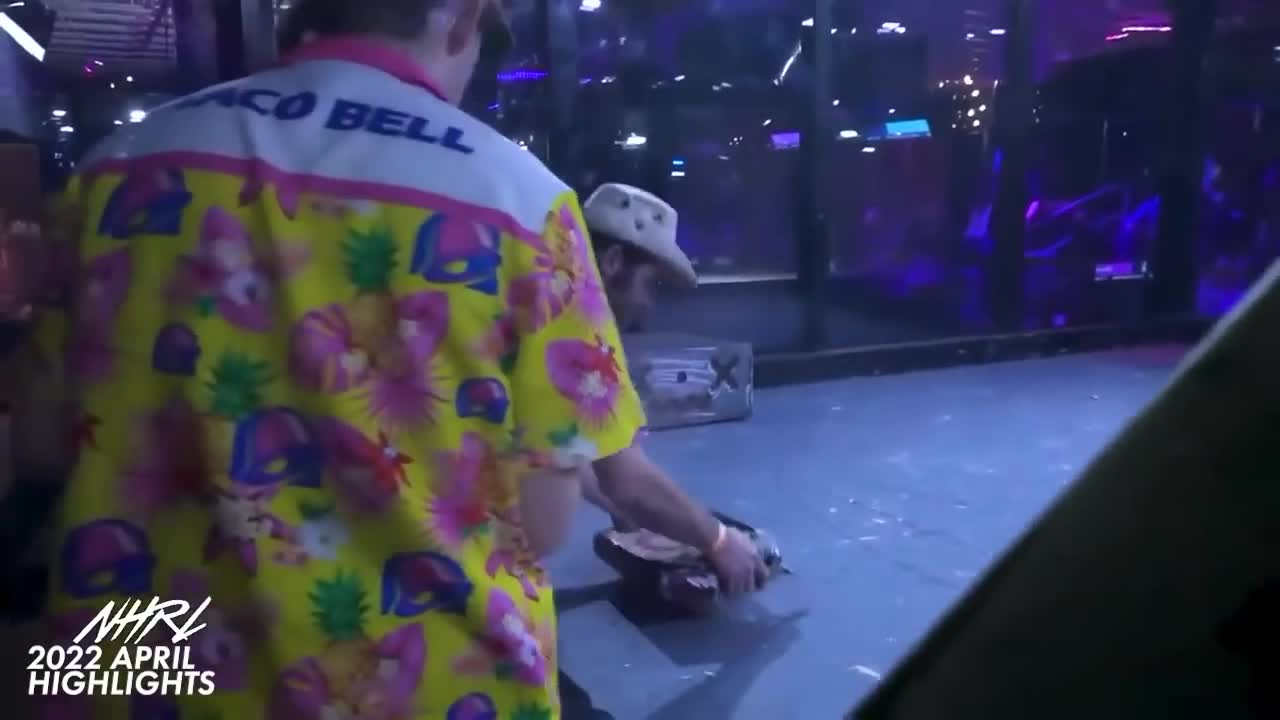combatbot: (593, 511, 785, 612)
housebot: (585, 323, 759, 432)
